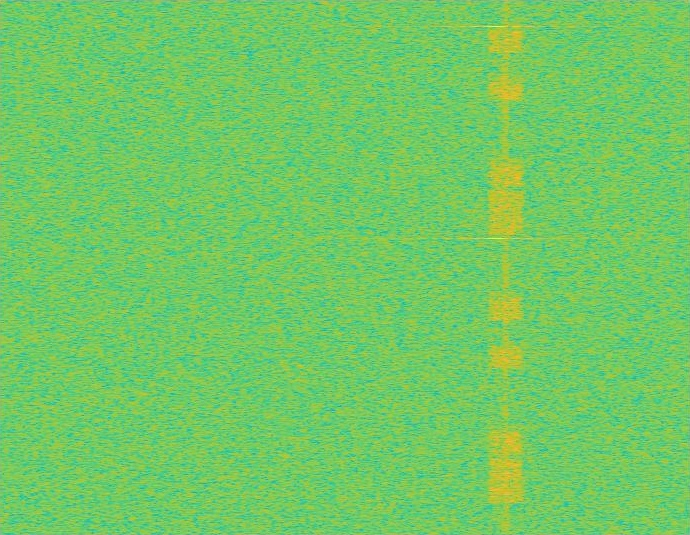DSSS: (504, 0, 508, 534)
LTE: (489, 0, 523, 534)
Radar: (489, 0, 503, 534)
